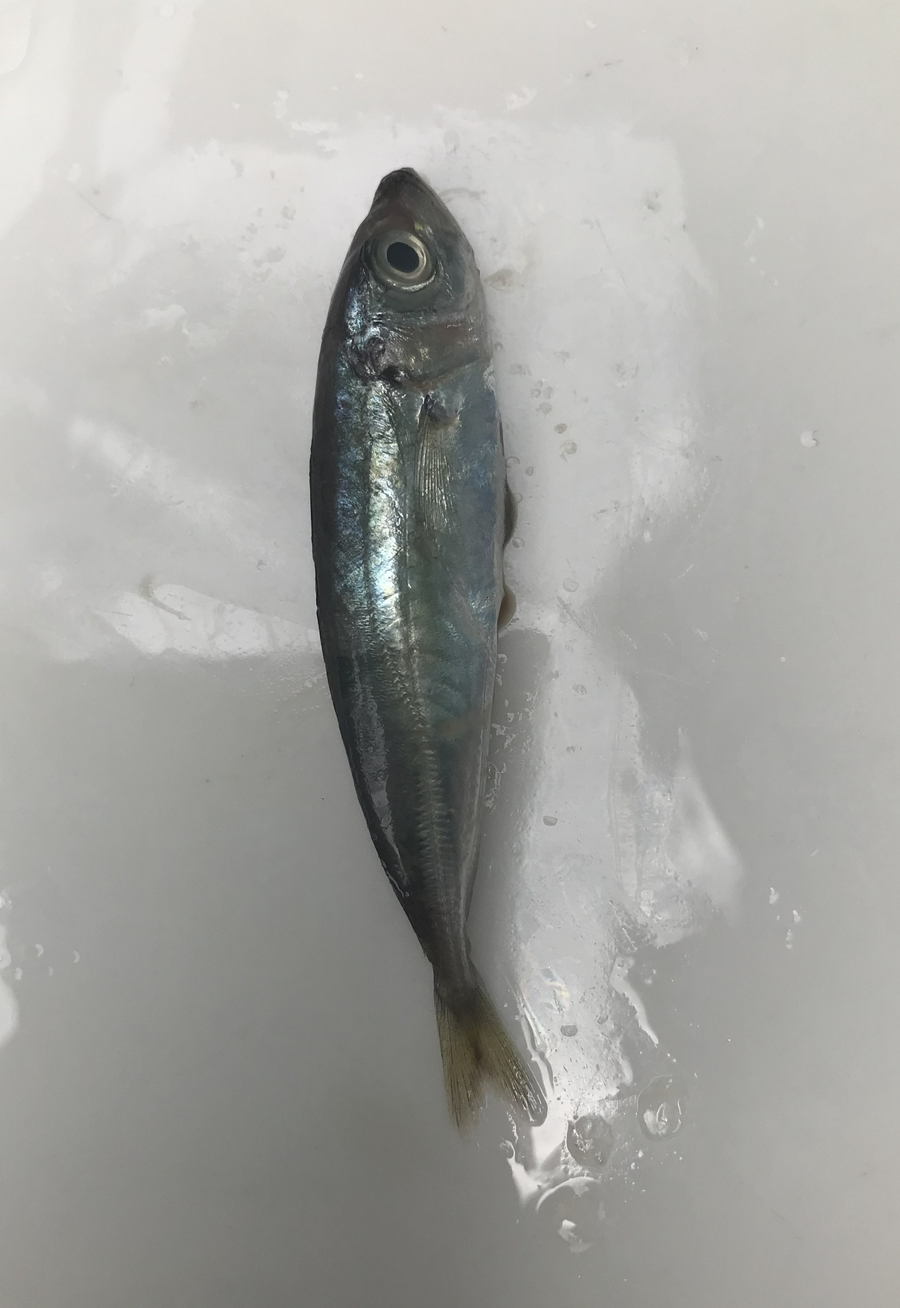burot_not_dried: (0, 167, 697, 1308), (617, 1035, 671, 1141), (629, 932, 673, 1042)
